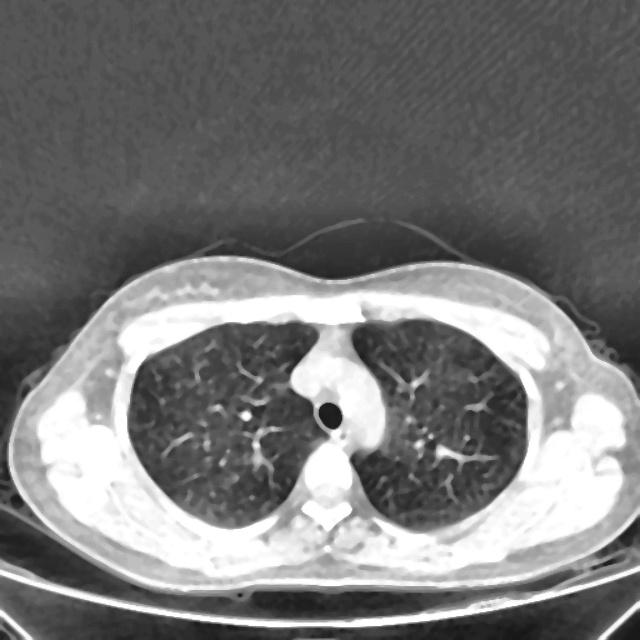covid: (8, 249, 638, 600)
